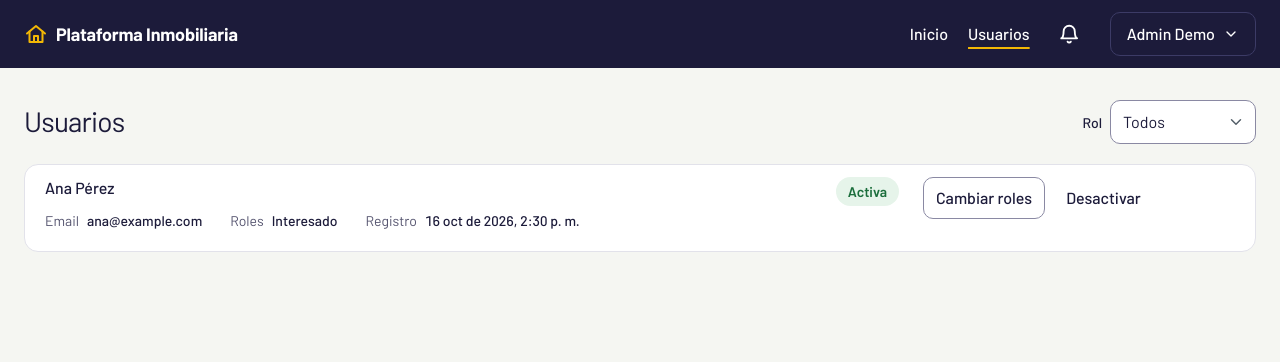
Test: AdminUsersPage › asks for confirmation before deactivating an account
Click the button with aria-label "Desactivar: Ana Pérez" at [1103, 198], box [1053,177,1154,219]
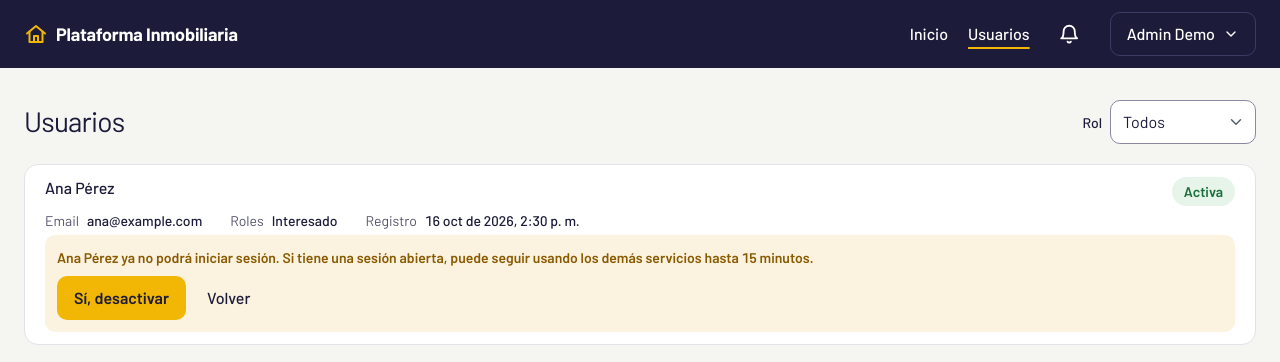
Click the button "Sí, desactivar" at [121, 298], box [57,276,186,320]
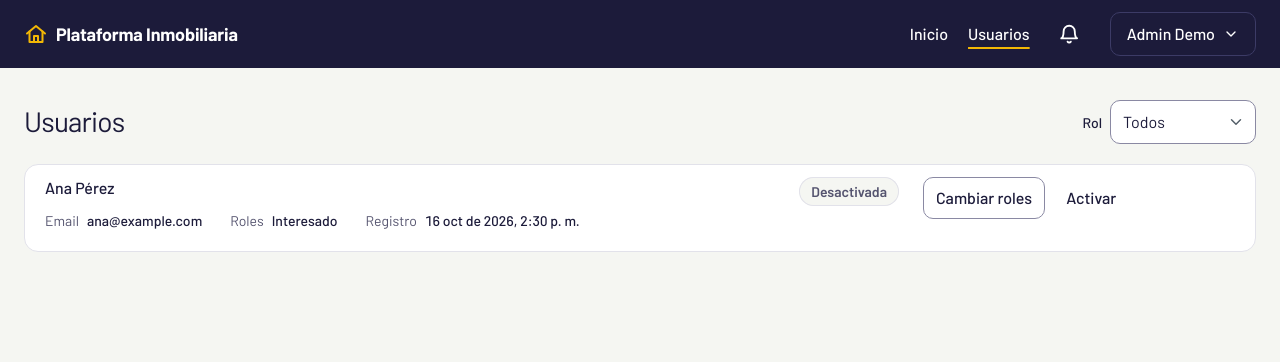
Expected: the text "Desactivada" is shown, [799,177,899,206]
Expected: the button with aria-label "Activar: Ana Pérez" is shown, [1053,177,1129,219]
